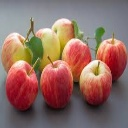apple: (7, 59, 39, 112)
